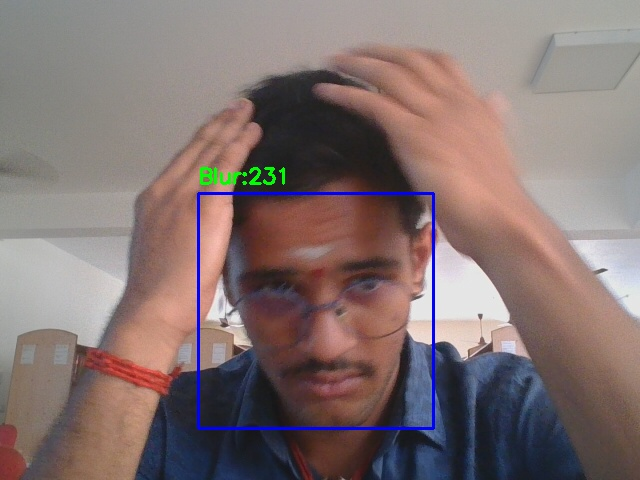real: (198, 193, 433, 428)
